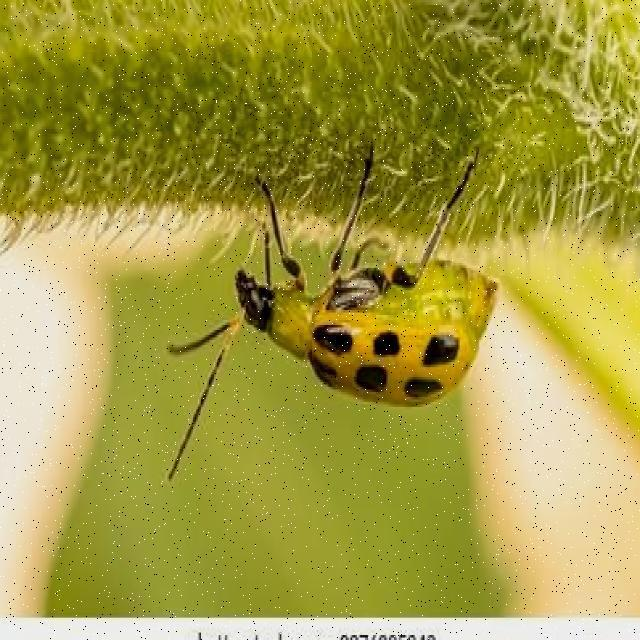gusano_verde: (168, 142, 502, 479)
